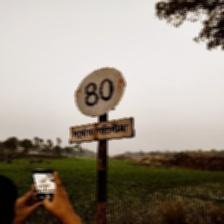Speed-limit: (70, 65, 132, 145)
